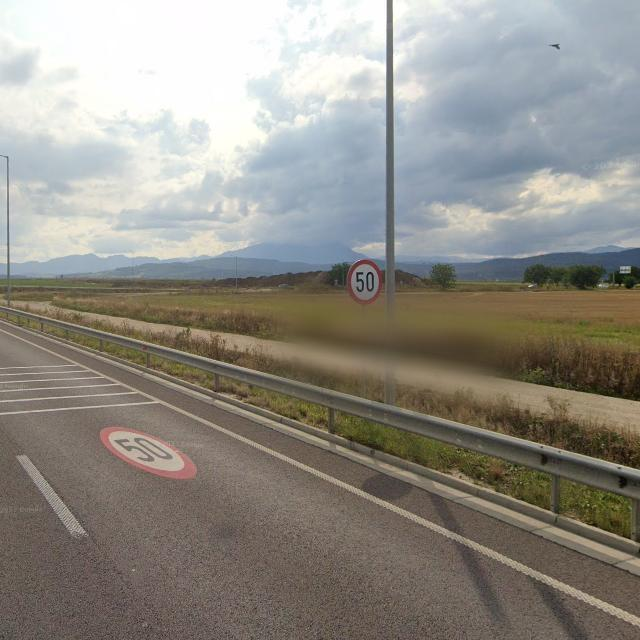forb_speed_over_50: (99, 424, 198, 481), (348, 261, 383, 305)
